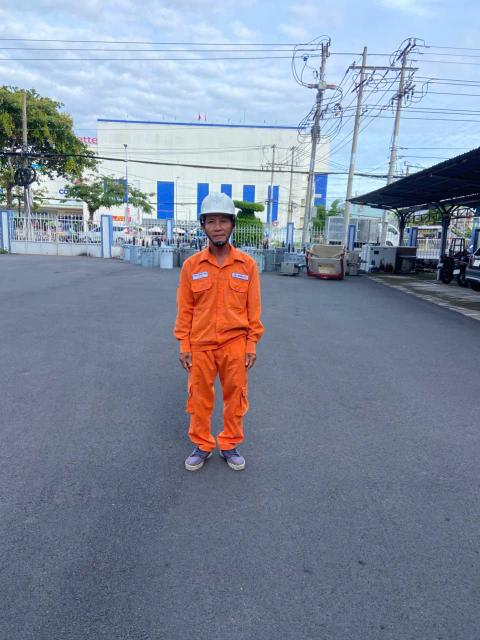helmet: (189, 186, 246, 220)
shoes: (178, 429, 216, 472), (218, 437, 255, 473)
